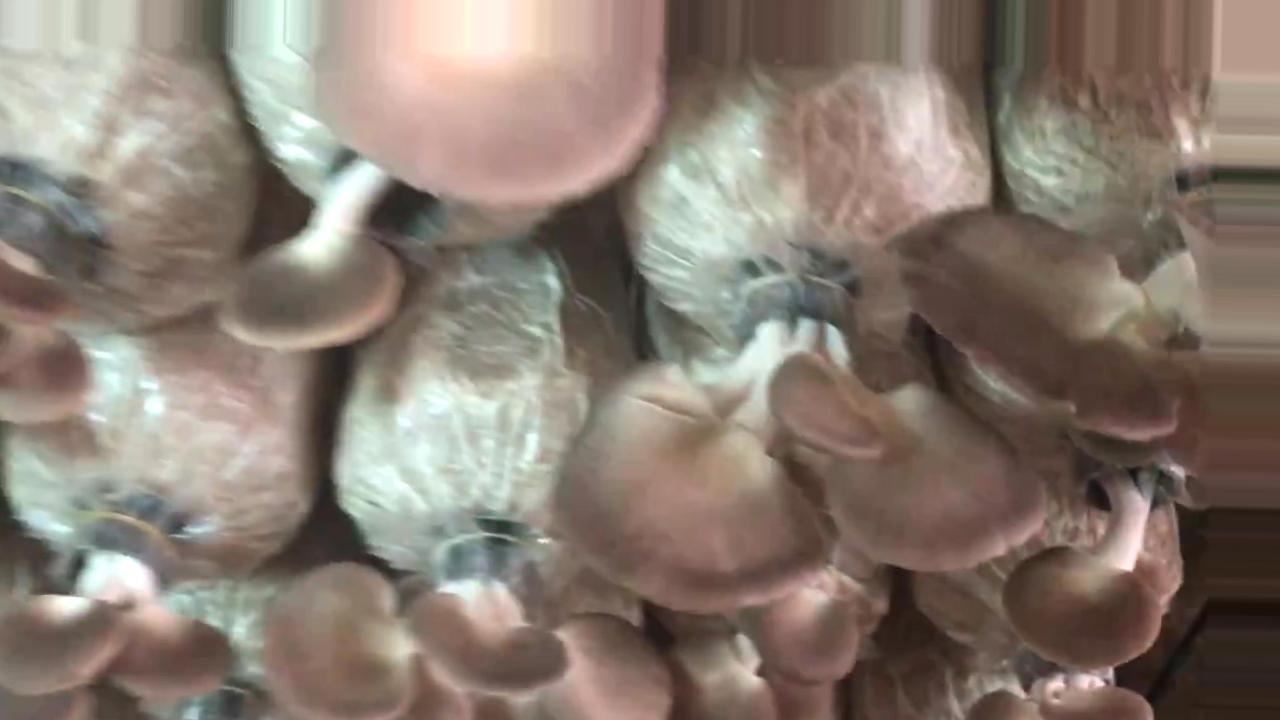nam: (552, 278, 1049, 612), (266, 531, 666, 720), (316, 1, 665, 205), (904, 204, 1205, 434), (1, 506, 231, 717), (1002, 443, 1186, 670), (215, 155, 402, 355), (1, 191, 85, 424)
